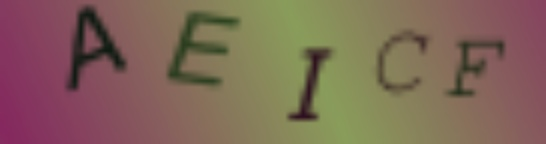A: (58, 3, 132, 93)
C: (372, 26, 432, 96)
E: (162, 9, 247, 89)
F: (443, 39, 511, 101)
I: (282, 44, 339, 125)
